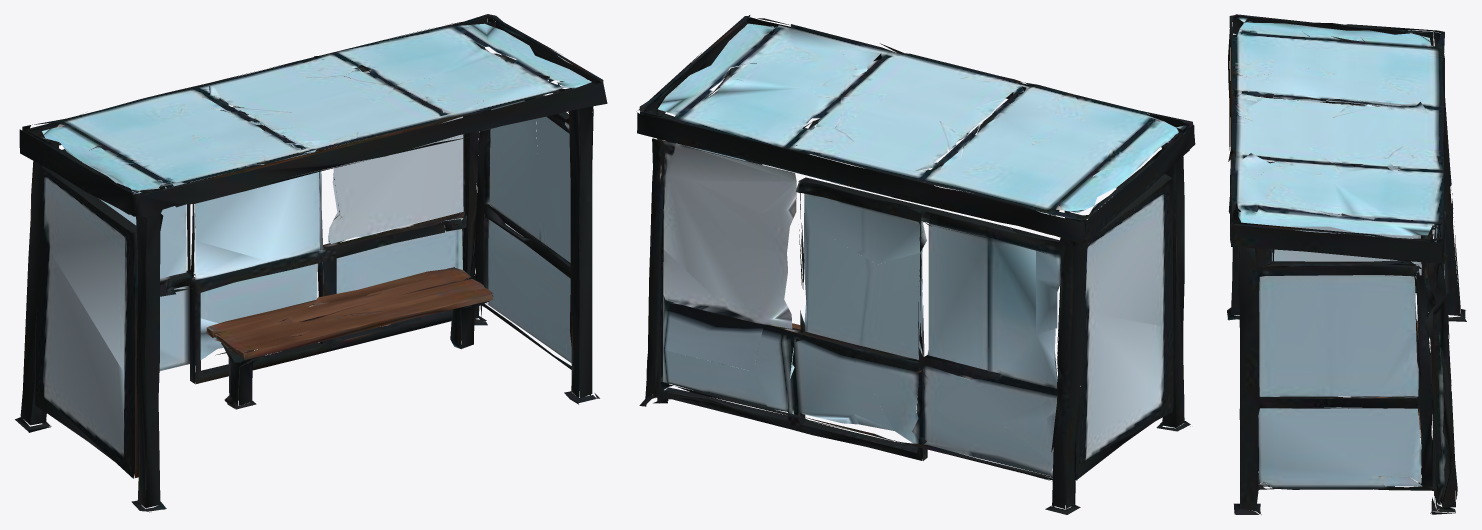
File: stadt_bushaltestelle.glb
3 views of the same model, side by side, from view 1: azimuth 30°, elevation 25°; view 2: azimuth 150°, elevation 25°; view 3: azimuth 270°, elevation 25° (orthographic). The views are drawn at different scales.
Visible parts, largest first — view 1: Prop; view 2: Prop; view 3: Prop.
Part boxes in pixels (<box>): Prop: <box>15,14,607,512</box>; Prop: <box>636,15,1195,514</box>; Prop: <box>1227,14,1466,514</box>.
Bounding box in the file's own units: 1.54 × 1.01 × 0.7391.
1 material, 1 textured.
